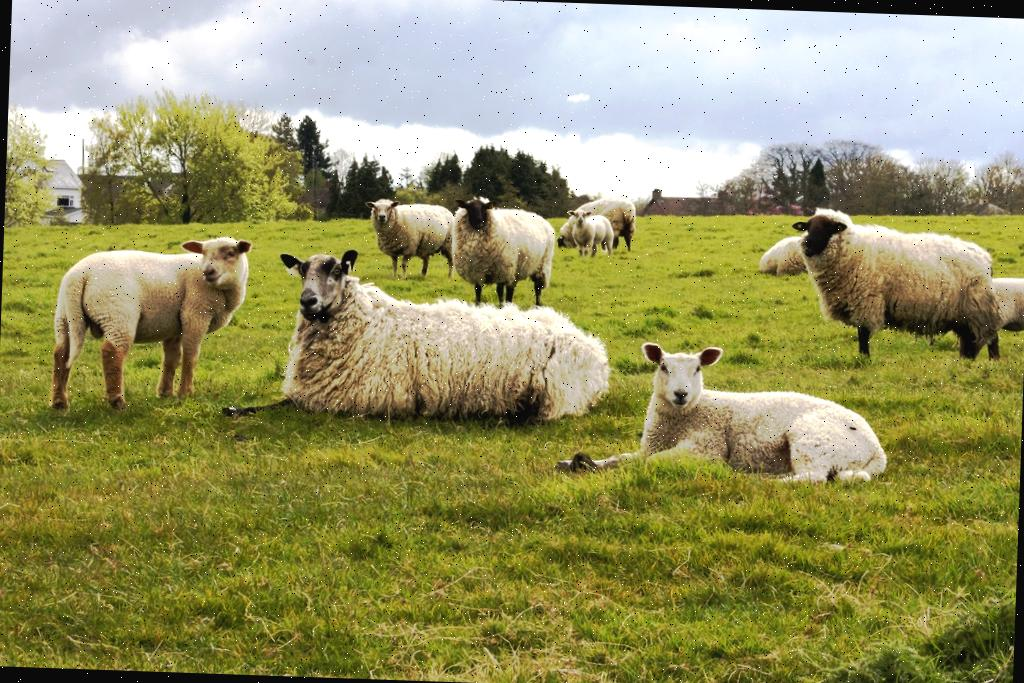Sheep: (251, 248, 602, 430), (562, 337, 881, 486), (778, 204, 1016, 377), (50, 231, 248, 415), (446, 195, 552, 309), (363, 198, 454, 282), (568, 194, 638, 252)
